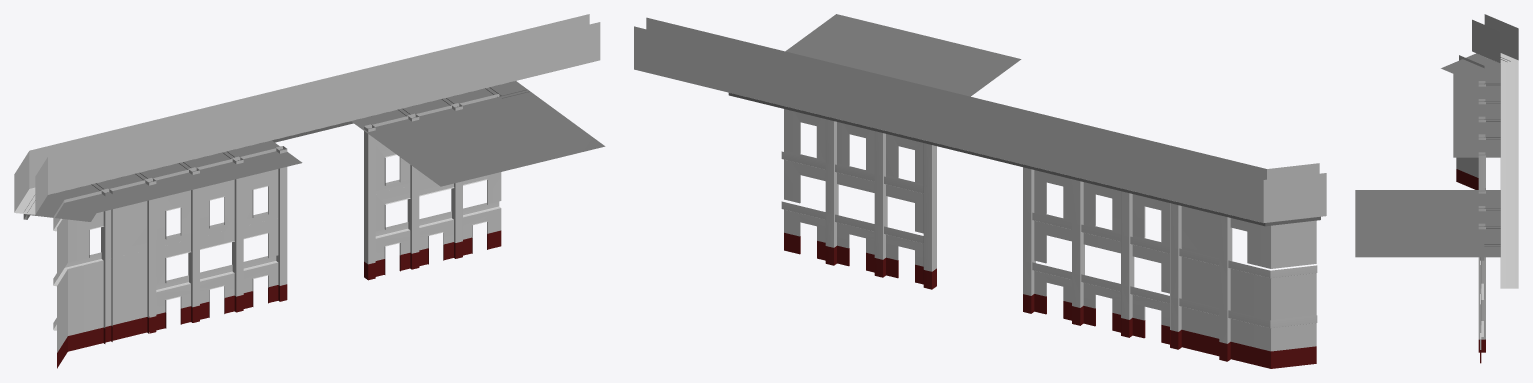
File: SM_H_Building_Tide_Jail_A_03a_ATLAS.fbx
The picture shows the model from 3 angles, left to right: view 1: azimuth 30°, elevation 25°; view 2: azimuth 150°, elevation 25°; view 3: azimuth 270°, elevation 25°; orthographic projection. The views are drawn at different scales.
Parts seen in each view (by area): view 1: SM_H_Building_Tide_Jail_A_03a_ATLAS; view 2: SM_H_Building_Tide_Jail_A_03a_ATLAS; view 3: SM_H_Building_Tide_Jail_A_03a_ATLAS.
Part boxes in pixels (x1=…): SM_H_Building_Tide_Jail_A_03a_ATLAS: x1=14, y1=14, x2=605, y2=368; SM_H_Building_Tide_Jail_A_03a_ATLAS: x1=634, y1=14, x2=1326, y2=368; SM_H_Building_Tide_Jail_A_03a_ATLAS: x1=1355, y1=14, x2=1518, y2=363.
Bounding box in the file's own units: 7427 × 2117 × 2250.
